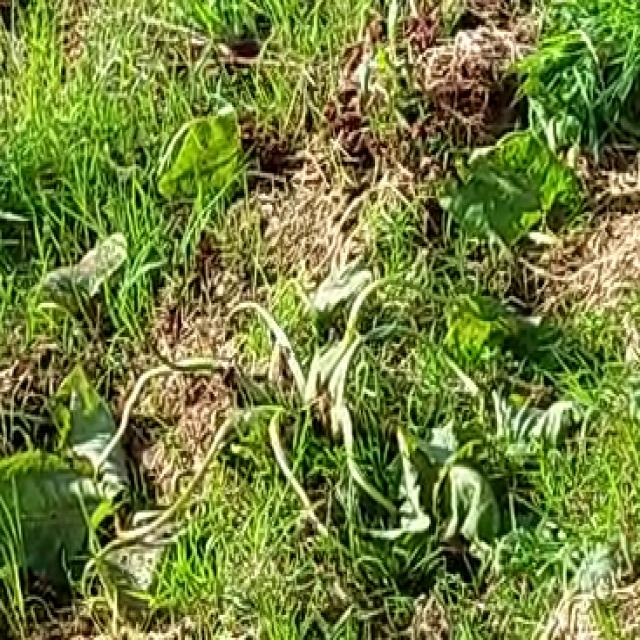organic waste: (0, 87, 605, 580)
